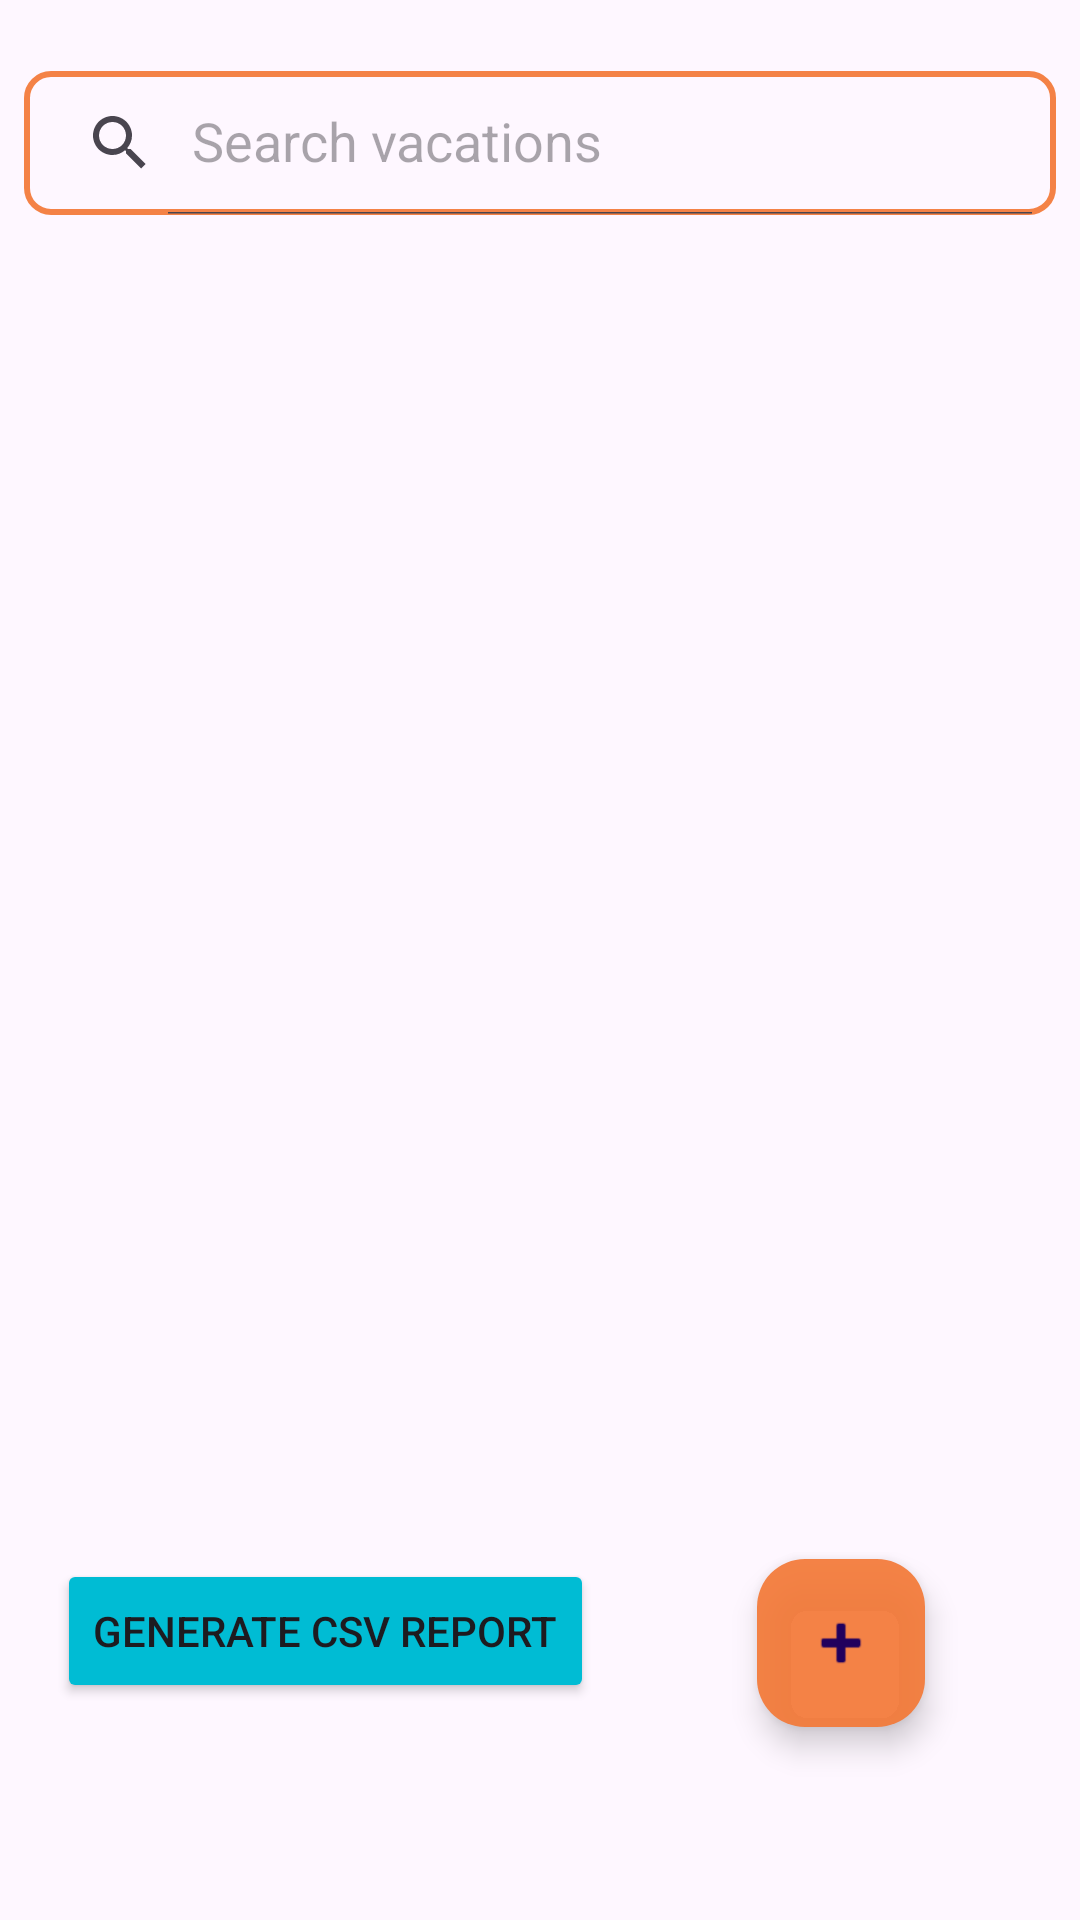

Named icons in this screenshot (1080px×1920px) and their bounding boxes, (x1, y1, x2, y2):
add: (757, 1559, 925, 1727)
